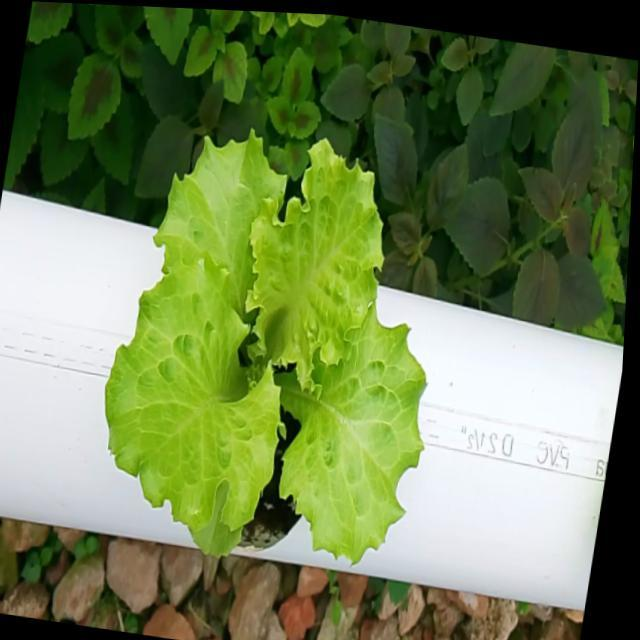Baby: (108, 121, 432, 555)
